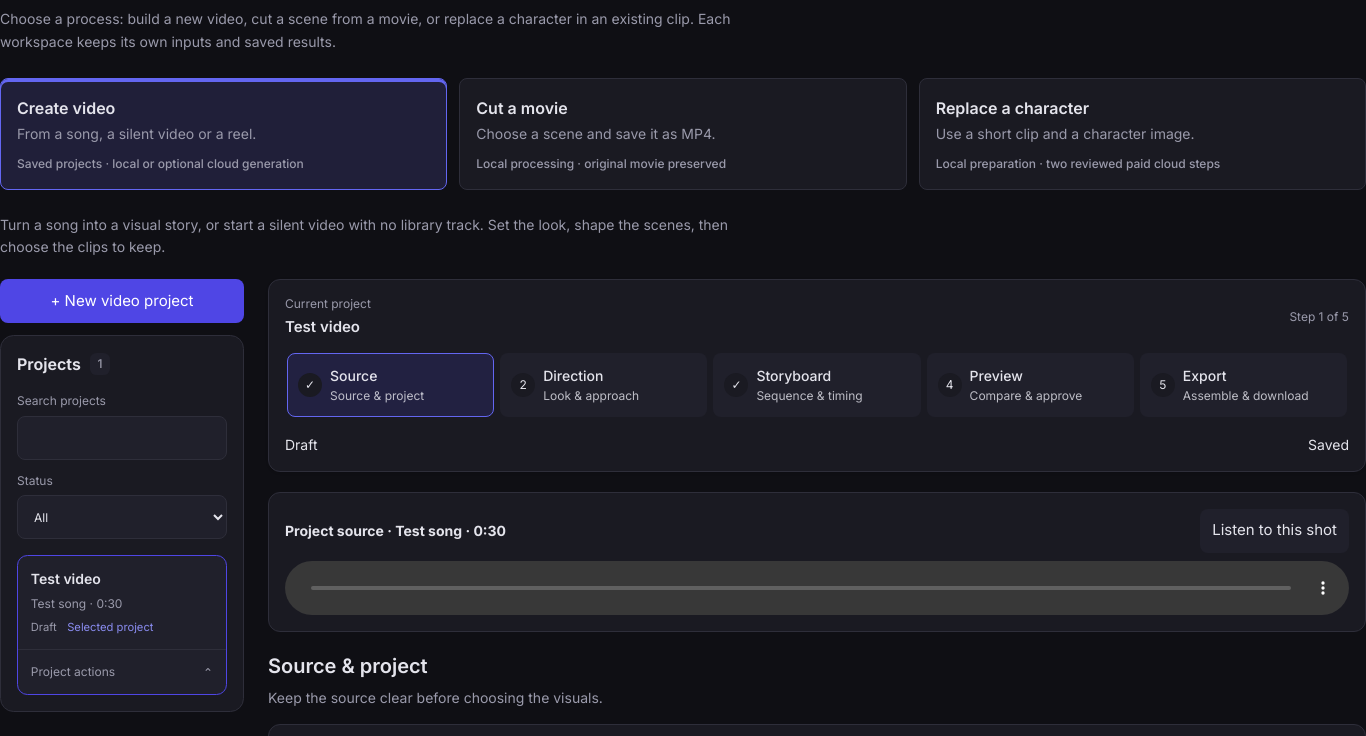
Test: shows distinct render and approved-export explanations with an approval blocker
What coordinates should you click on to do the following:
click the tab "5 Export Assemble & download"
I would click on:
 (1243, 384)
Its box is x1=1140 y1=352 x2=1347 y2=416.
(page scrolled)
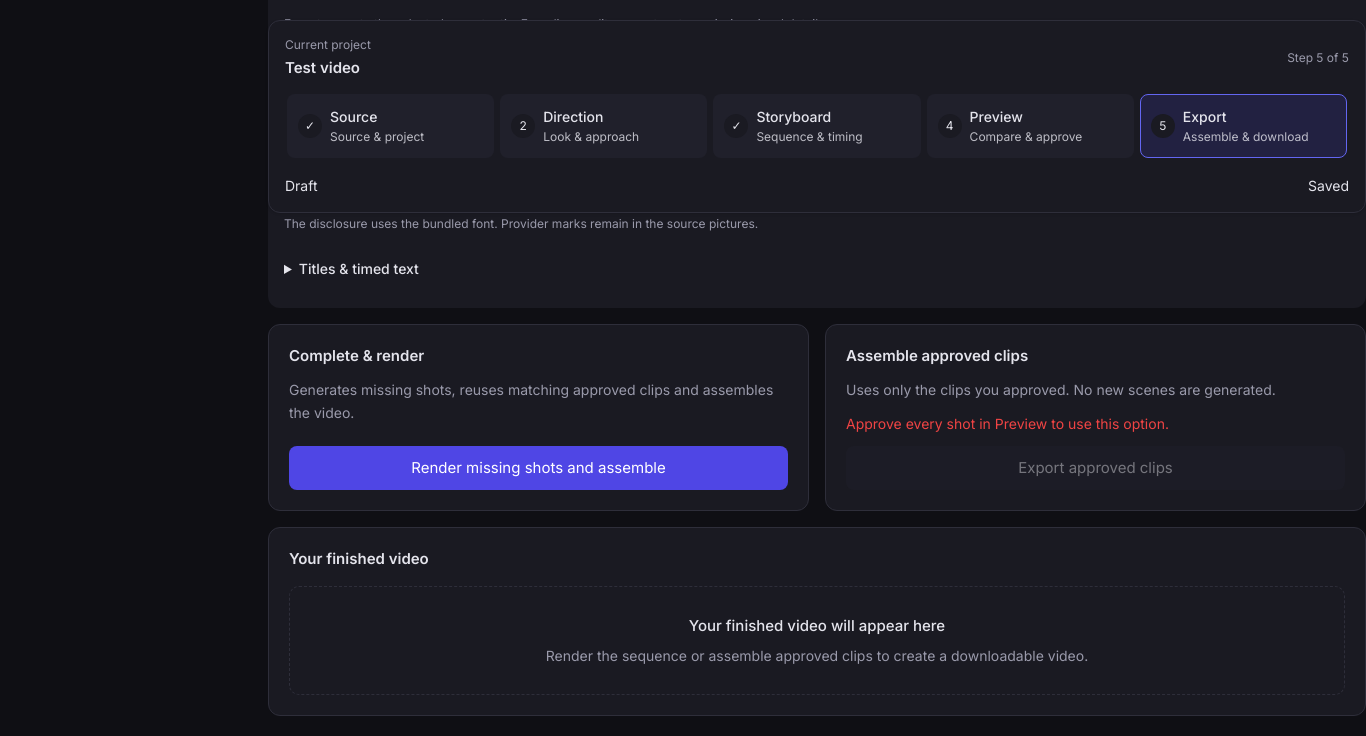
Expected: the element that starts with "Complete & render" shows "Generates missing shots", x1=289 y1=381 x2=773 y2=421
Expected: the element that starts with "Assemble approved clips" shows "Uses only the clips you approved", x1=846 y1=381 x2=1276 y2=398
Expected: the element that starts with "Assemble approved clips" shows "Approve every shot", x1=846 y1=415 x2=1169 y2=432
